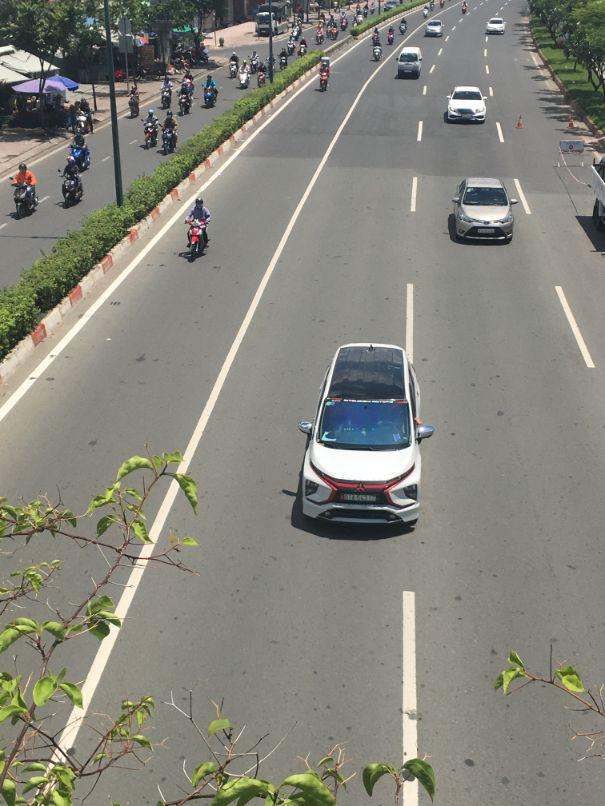car: (299, 342, 423, 529), (447, 179, 514, 245), (445, 87, 487, 125), (397, 49, 423, 82), (487, 18, 506, 36), (424, 20, 442, 38)
motorbike: (181, 220, 212, 263), (11, 182, 37, 218), (60, 166, 83, 206), (178, 77, 194, 113), (127, 89, 140, 118), (204, 80, 219, 105), (179, 94, 195, 117)
